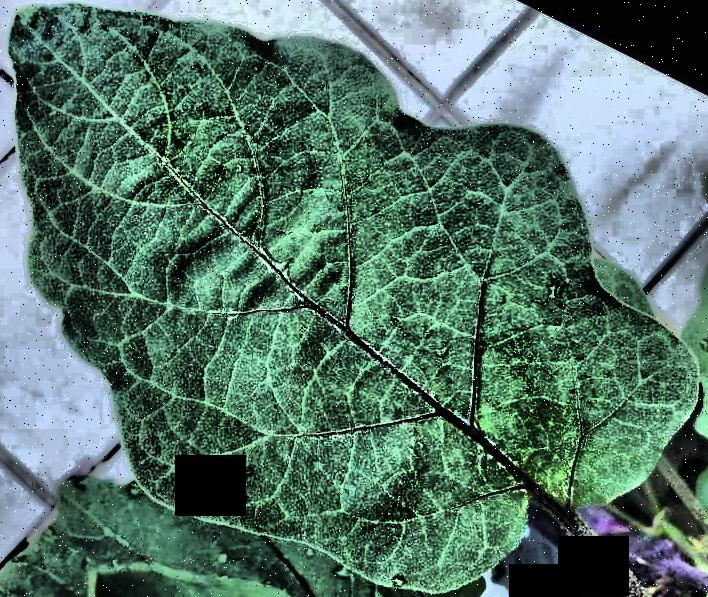HEALTHY: (1, 0, 708, 597)
